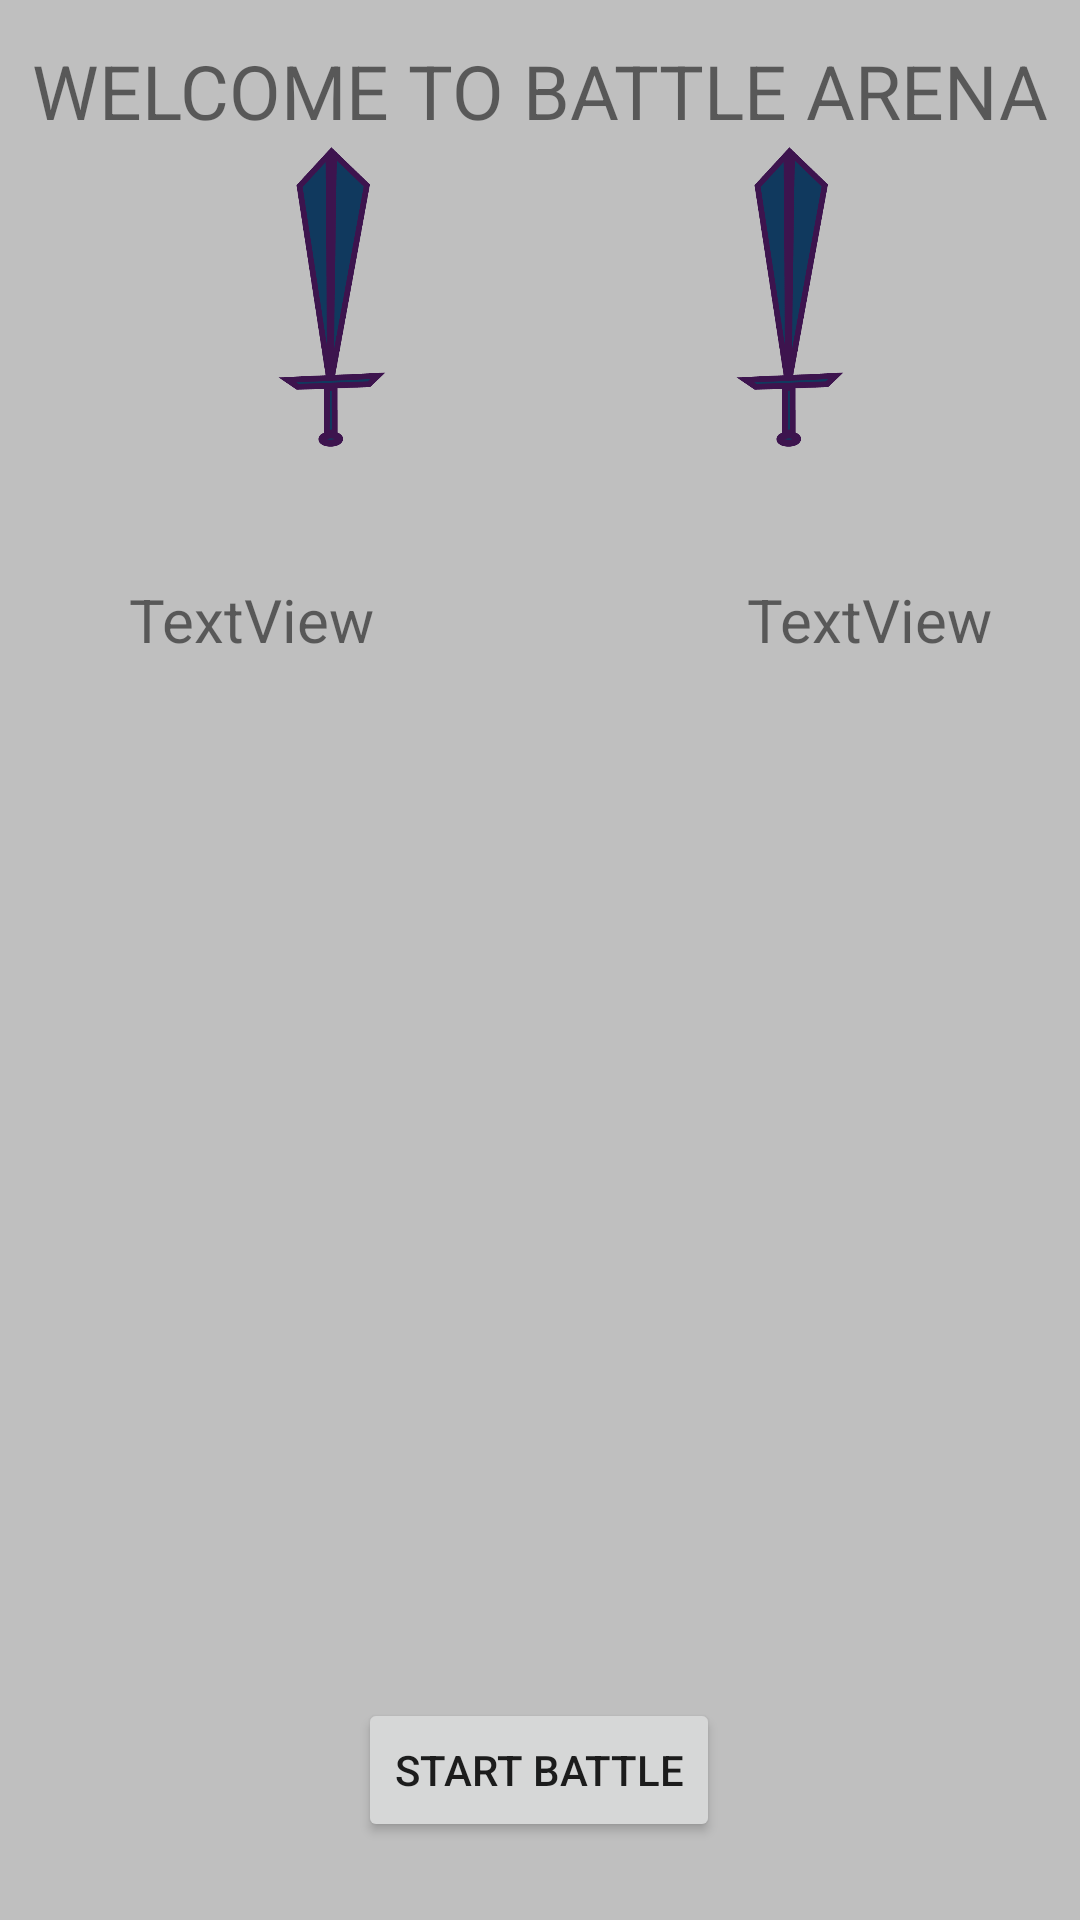

Where to tap for icons on this 1080 × 1920 app screen, as (x=x, y=y):
sword: (x=332, y=297), (x=790, y=297)
